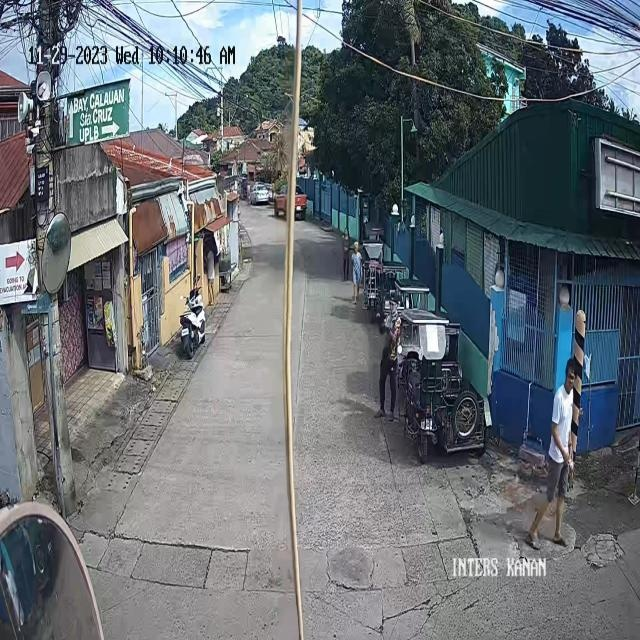Motorcycle: (174, 265, 211, 367)
